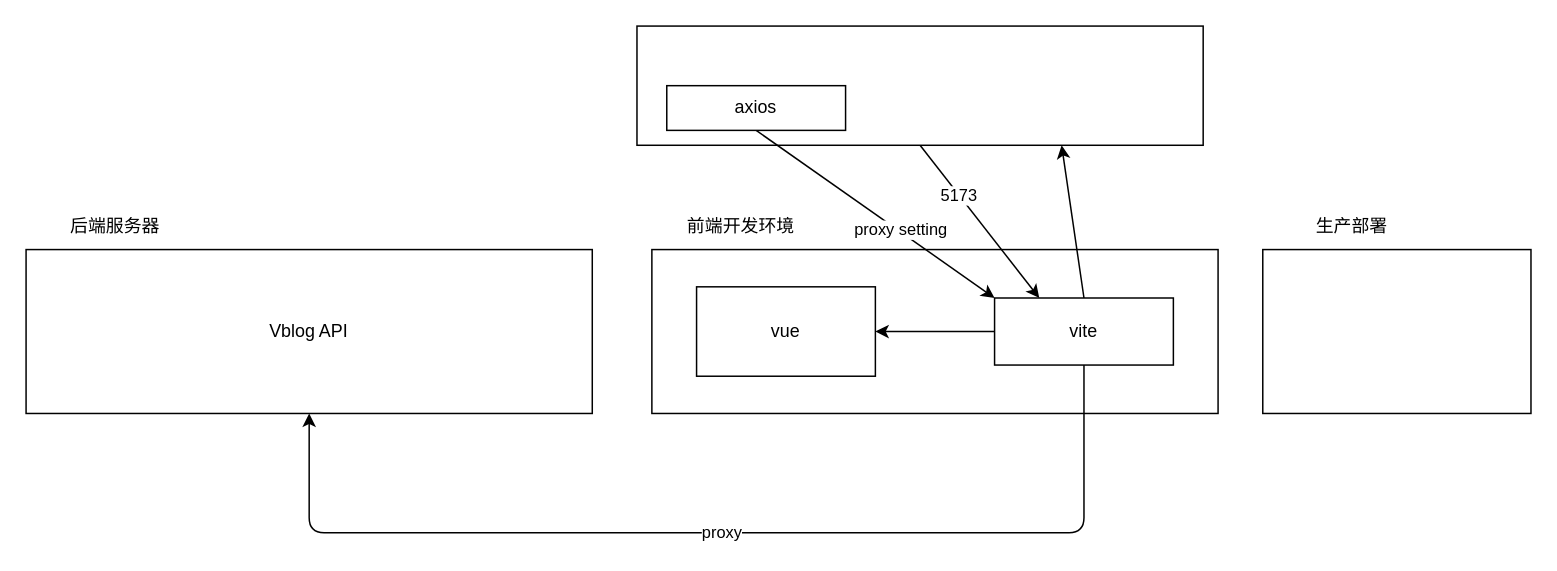
Image size: 1557x571. Some labels were removed from this diagram. Each missing label, with the box of its shape:
nignx/http server/...: (1261, 248, 1531, 413)
浏览器: (635, 25, 1203, 145)
